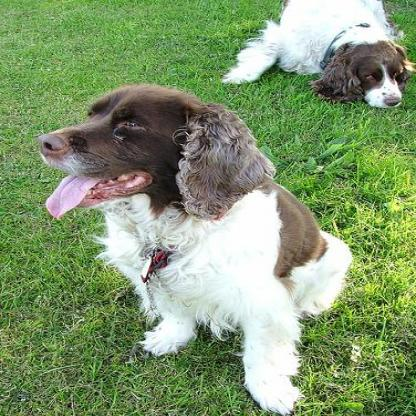English_springer: (33, 83, 352, 414), (221, 0, 413, 108)
